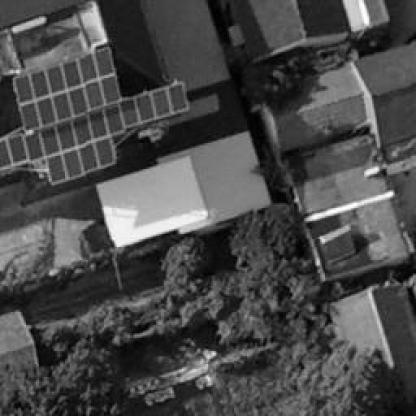solar-pv-panel: (0, 81, 189, 172), (14, 46, 122, 132), (46, 136, 117, 187)
